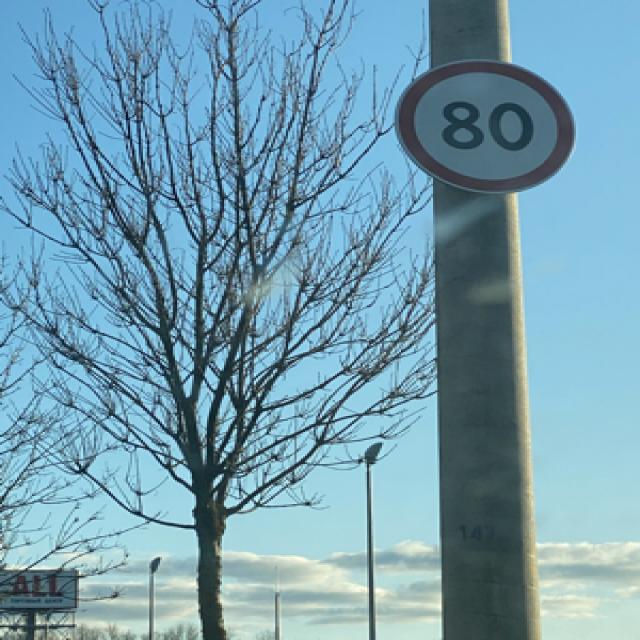speedlimit: (392, 58, 574, 192)
